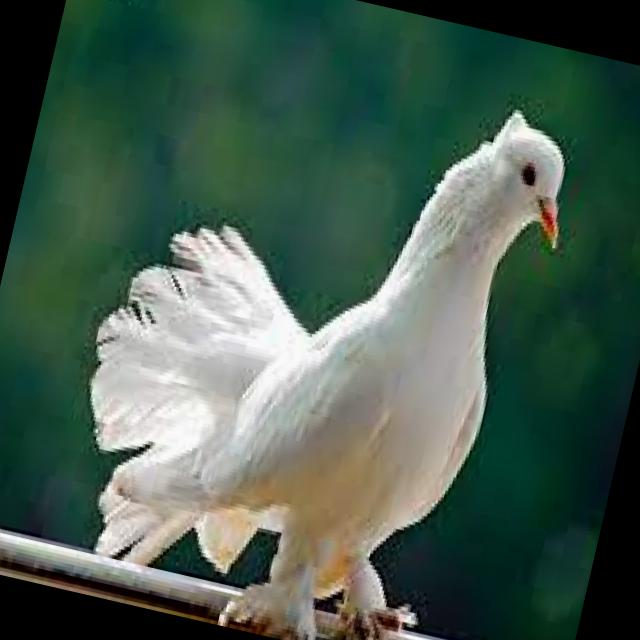bird: (46, 16, 597, 640)
